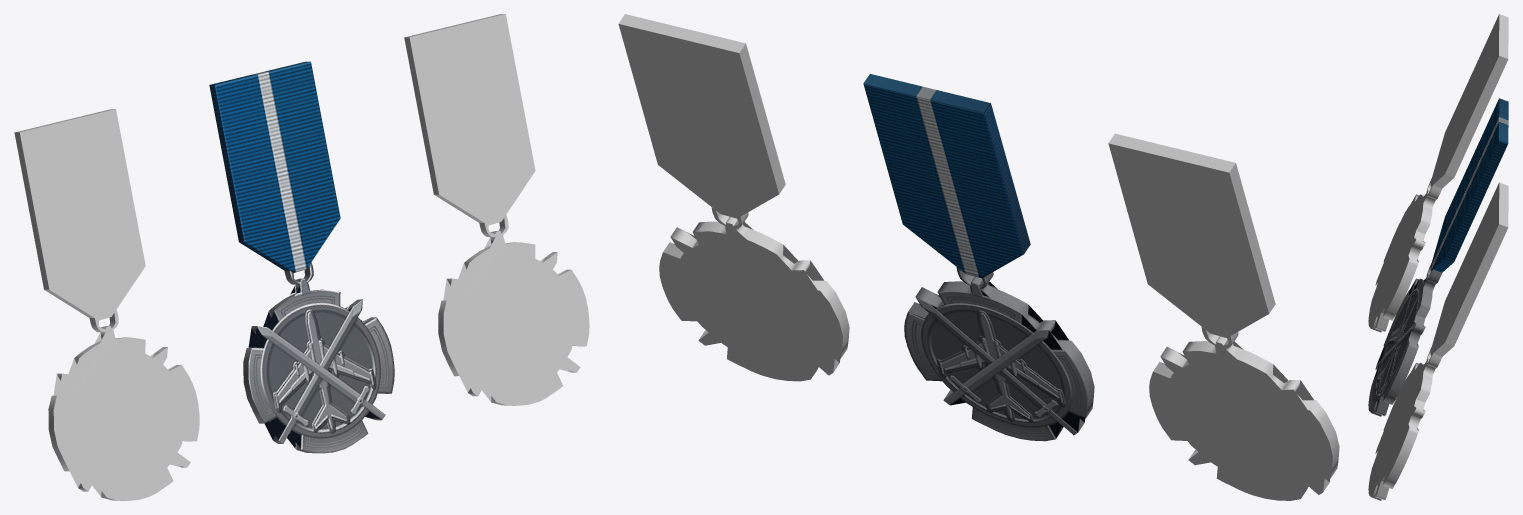
File: Ace Combat 7 Medals ACE.fbx
The picture shows the model from 3 angles, left to right: view 1: azimuth 30°, elevation 25°; view 2: azimuth 150°, elevation 25°; view 3: azimuth 270°, elevation 25°; orthographic projection. The views are drawn at different scales.
Visible parts, largest first — view 1: Ace Combat 7 Ace Silver, Ace Combat 7 Ace Gold, Ace Combat 7 Ace Bronze; view 2: Ace Combat 7 Ace Silver, Ace Combat 7 Ace Gold, Ace Combat 7 Ace Bronze; view 3: Ace Combat 7 Ace Gold, Ace Combat 7 Ace Silver, Ace Combat 7 Ace Bronze.
Part boxes in pixels (x1,y1,x2,y2): Ace Combat 7 Ace Silver: [209, 61, 394, 453]; Ace Combat 7 Ace Gold: [404, 14, 589, 405]; Ace Combat 7 Ace Bronze: [14, 109, 199, 500]; Ace Combat 7 Ace Silver: [863, 74, 1094, 441]; Ace Combat 7 Ace Gold: [618, 14, 849, 381]; Ace Combat 7 Ace Bronze: [1108, 133, 1339, 500]; Ace Combat 7 Ace Gold: [1368, 182, 1508, 500]; Ace Combat 7 Ace Silver: [1368, 98, 1508, 416]; Ace Combat 7 Ace Bronze: [1368, 14, 1508, 332].
Size of the model in its own units: 164 by 96.62 by 42.19.
